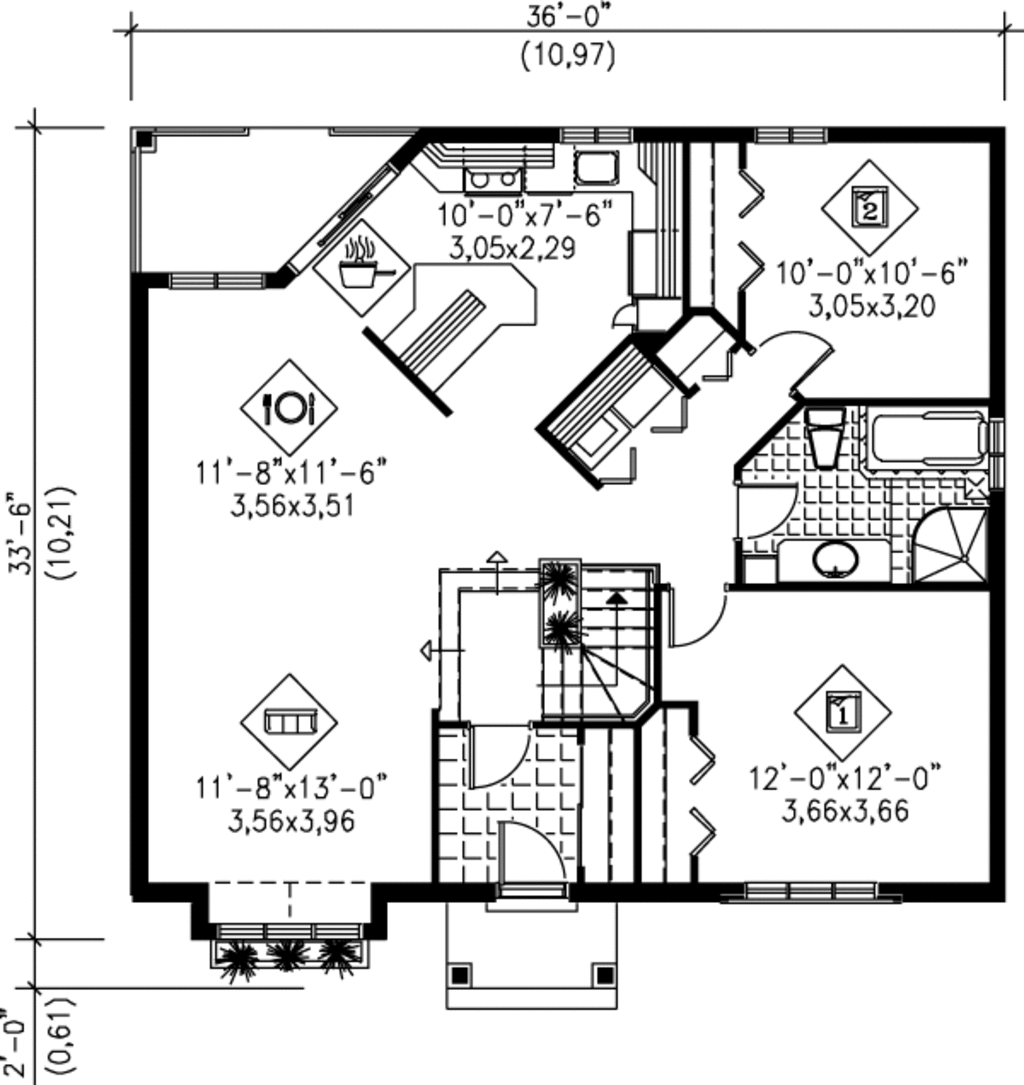door: (491, 817, 578, 907), (656, 576, 734, 651), (756, 320, 829, 388), (730, 476, 802, 542), (468, 727, 530, 794)
kitchen_bar: (420, 142, 586, 206)
large_sink: (806, 396, 856, 473)
sink: (568, 145, 634, 197)
small_sink: (773, 535, 894, 581)
tub: (868, 406, 1006, 473)
window: (150, 255, 273, 297), (745, 114, 853, 160), (724, 876, 897, 904), (219, 920, 375, 948), (560, 115, 643, 145), (981, 407, 1011, 486)
